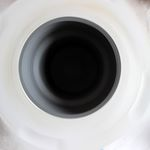cups: (13, 13, 125, 124)
